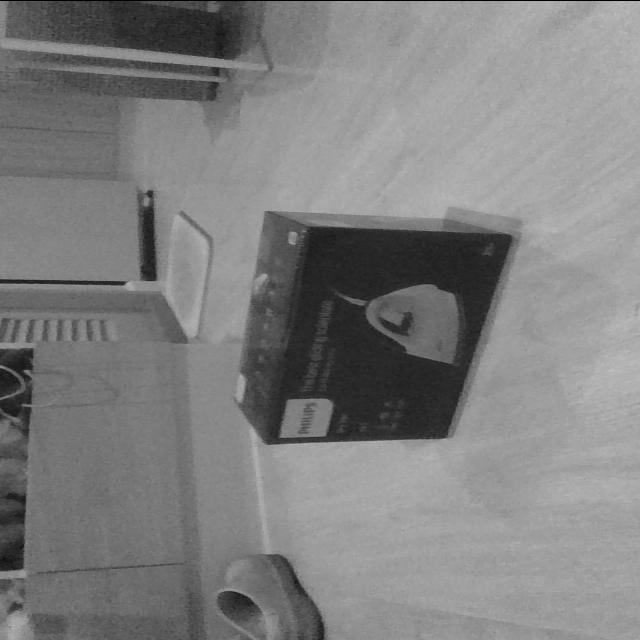IRON: (228, 208, 518, 446)
